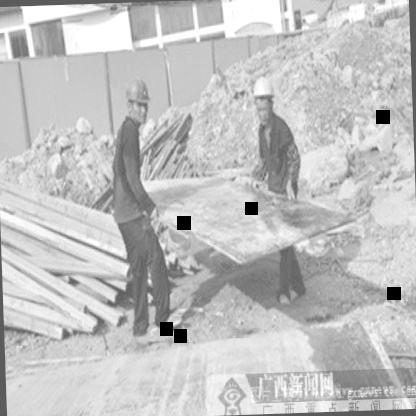helmet: (122, 71, 152, 126), (250, 73, 278, 123)
